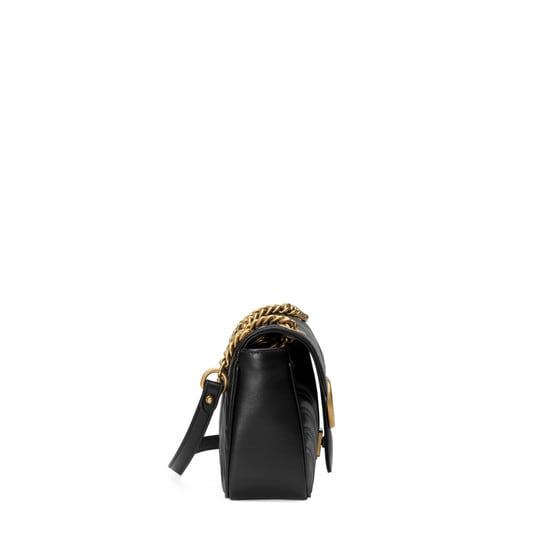Gucci: (181, 305, 335, 502)
